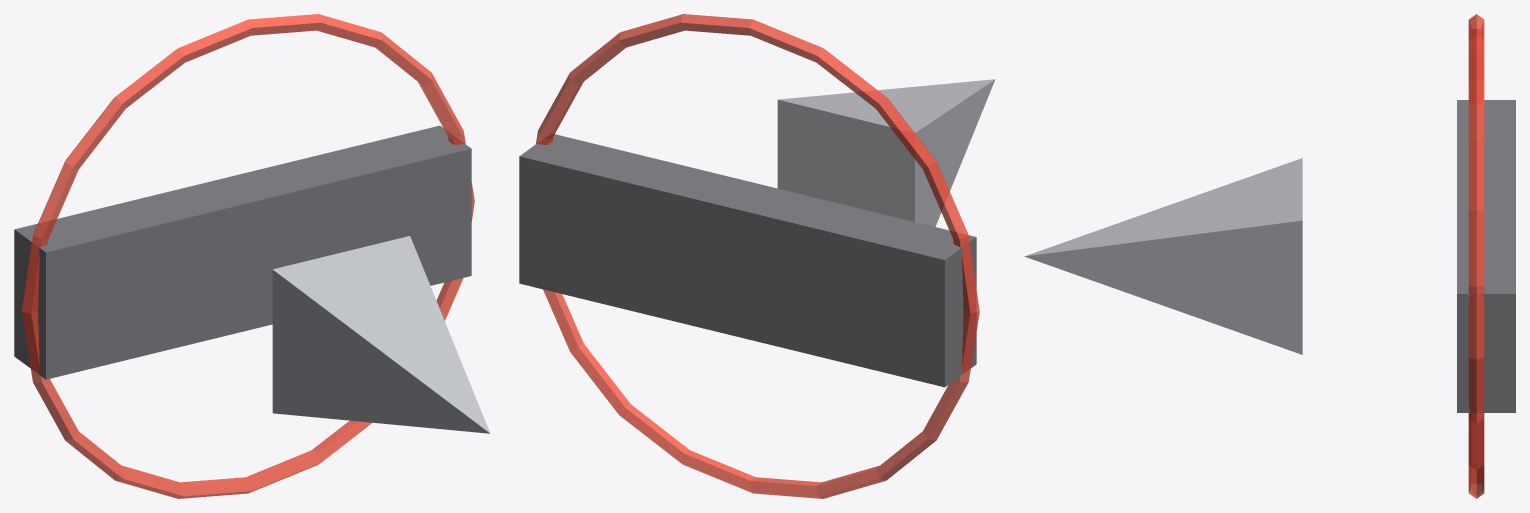
The model's file is swinging_blade_trap.glb.
The picture shows the model from 3 angles, left to right: view 1: azimuth 30°, elevation 25°; view 2: azimuth 150°, elevation 25°; view 3: azimuth 270°, elevation 25°; orthographic projection. The views are drawn at different scales.
Visible parts, largest first — view 1: trap_base, blade, danger_ring; view 2: trap_base, blade, danger_ring; view 3: blade, trap_base, danger_ring.
Boxes of the visible parts, bbox=[...] form: trap_base: bbox=[14, 125, 471, 379]; blade: bbox=[272, 236, 490, 433]; danger_ring: bbox=[22, 14, 474, 498]; trap_base: bbox=[519, 134, 976, 387]; blade: bbox=[777, 79, 995, 226]; danger_ring: bbox=[536, 14, 979, 498]; blade: bbox=[1024, 158, 1302, 354]; trap_base: bbox=[1457, 100, 1515, 412]; danger_ring: bbox=[1468, 14, 1484, 498].
Bounding box in the file's own units: 1.49 × 1.49 × 1.5.
